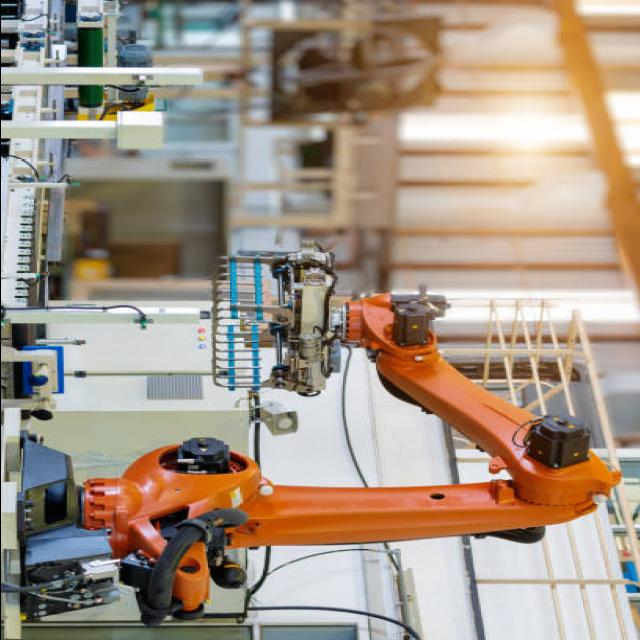Robotic-arm: (72, 285, 631, 623)
